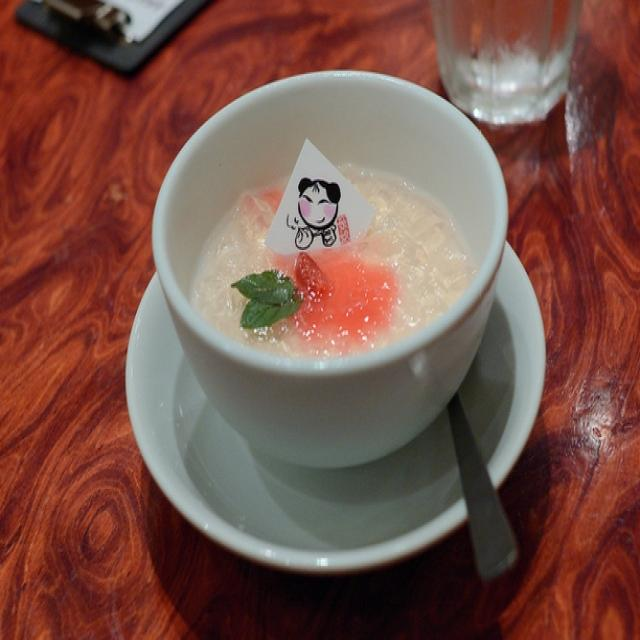寿司卷物: (0, 187, 640, 634)
